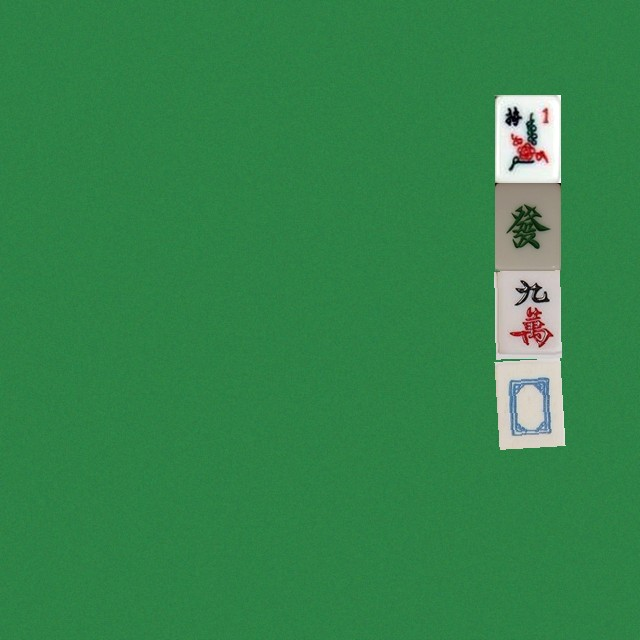tile: (494, 94, 560, 182), (494, 182, 560, 270), (494, 270, 560, 358), (494, 358, 560, 446)
